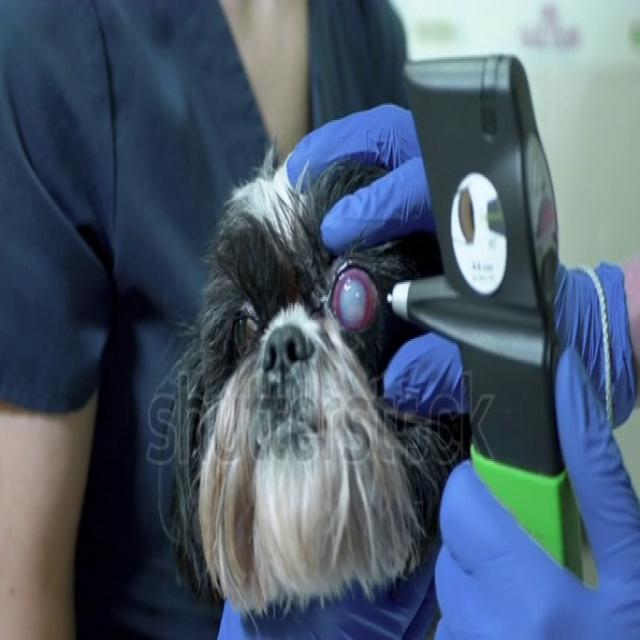injured-animals: (149, 135, 467, 627)
